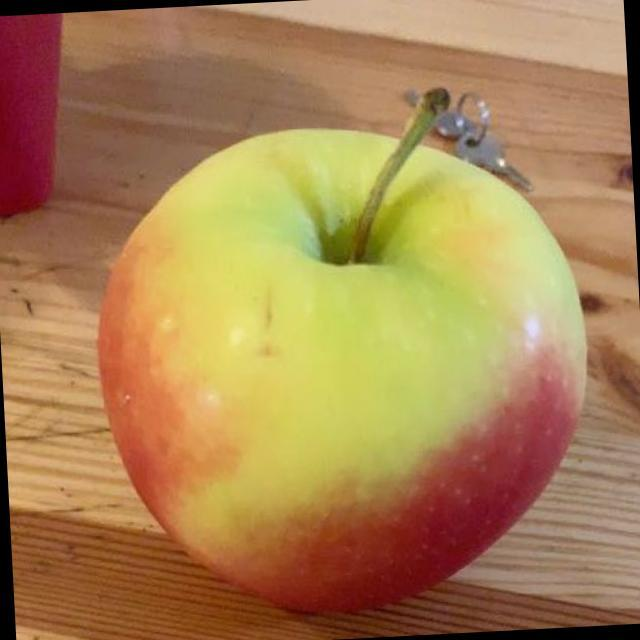Apple: (71, 63, 605, 635)
